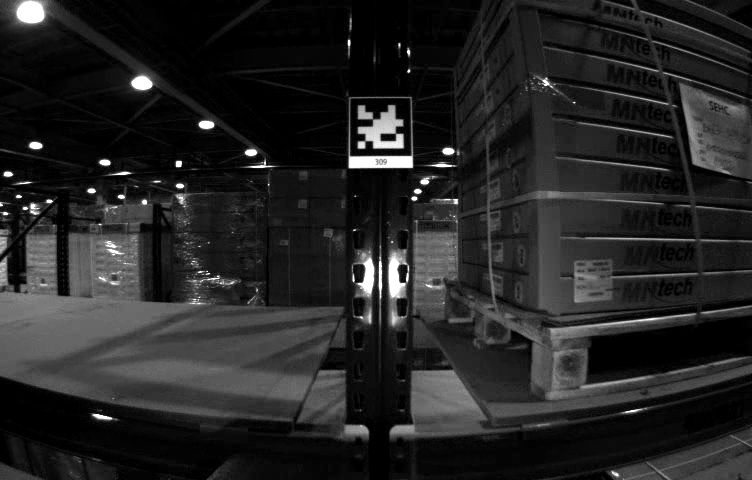True Barcode: (575, 261, 613, 301)
